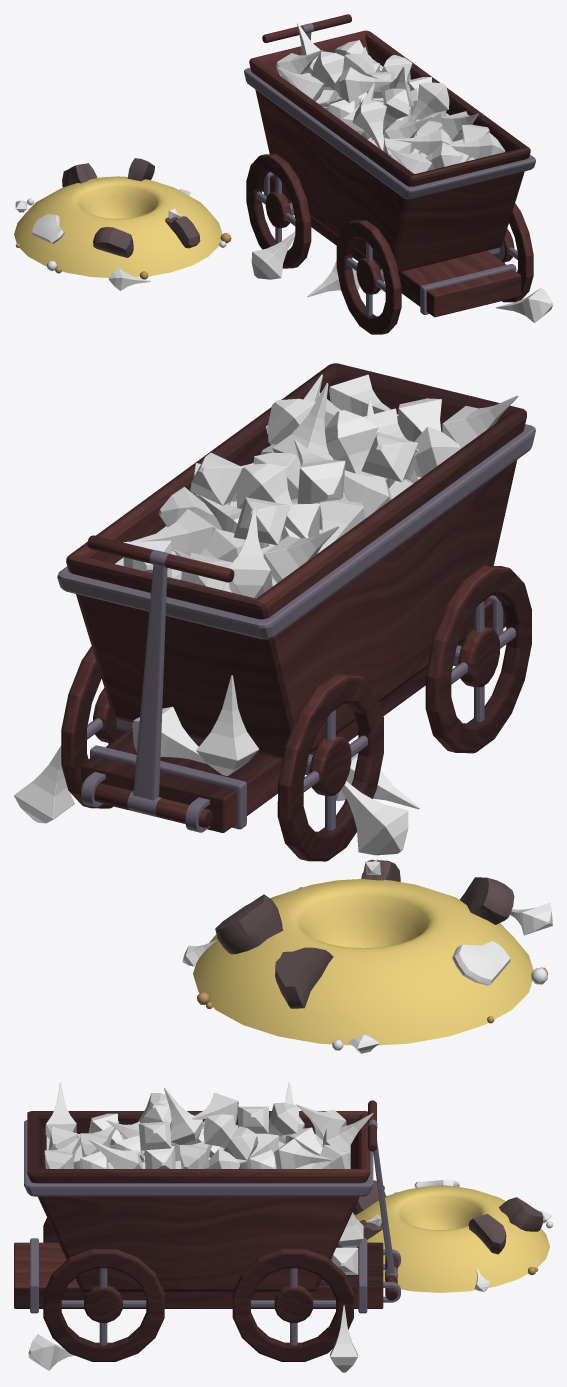
File: EdifRecoleccion.fbx
3 renders of one model, top to bottom at view 1: azimuth 30°, elevation 25°; view 2: azimuth 150°, elevation 25°; view 3: azimuth 270°, elevation 25°, orthographic. The views are drawn at different scales.
Parts seen in each view (by area): view 1: Vagoneta, Hoyo, RuedaAtrasDerecha, Base, RuedaAtrasIzquierda, Gema.036, Gema.031, Gema.017, Gema.040, RocaHoyo.009, Gema.043, Gema.028 (+22 smaller); view 2: Vagoneta, Hoyo, RuedaAtrasDerecha, Base, Barra, RuedaAtrasIzquierda, Gema.036, Gema.037, RocaHoyo.005, RocaHoyo.007, Gema.042, Gema.033 (+28 smaller); view 3: Vagoneta, RuedaAtrasIzquierda, Hoyo, Base, Gema.030, RocaHoyo.007, RocaHoyo.005, Gema.003, Gema.042, Gema.028, Gema.029, Gema.043 (+28 smaller).
Part boxes in pixels (bbox=[...]): Vagoneta: bbox=[244, 30, 535, 271]; Hoyo: bbox=[14, 176, 222, 277]; RuedaAtrasDerecha: bbox=[246, 154, 401, 334]; Base: bbox=[262, 172, 521, 317]; RuedaAtrasIzquierda: bbox=[494, 203, 533, 302]; Gema.036: bbox=[251, 232, 295, 279]; Gema.031: bbox=[408, 82, 449, 121]; Gema.017: bbox=[352, 99, 386, 150]; Gema.040: bbox=[334, 67, 392, 103]; RocaHoyo.009: bbox=[93, 227, 133, 257]; Gema.043: bbox=[496, 287, 552, 322]; Gema.028: bbox=[311, 51, 344, 96]; Vagoneta: bbox=[57, 363, 535, 759]; Hoyo: bbox=[193, 879, 533, 1045]; RuedaAtrasDerecha: bbox=[277, 565, 531, 861]; Base: bbox=[81, 595, 506, 832]; Barra: bbox=[133, 564, 167, 800]; RuedaAtrasIzquierda: bbox=[61, 646, 126, 808]; Gema.036: bbox=[341, 781, 408, 855]; Gema.037: bbox=[196, 675, 259, 775]; RocaHoyo.005: bbox=[215, 894, 283, 954]; RocaHoyo.007: bbox=[275, 947, 333, 1008]; Gema.042: bbox=[14, 745, 74, 823]; Gema.033: bbox=[325, 410, 378, 475]; Vagoneta: bbox=[24, 1111, 373, 1291]; RuedaAtrasIzquierda: bbox=[43, 1249, 353, 1361]; Hoyo: bbox=[355, 1185, 549, 1292]; Base: bbox=[14, 1238, 383, 1313]; Gema.030: bbox=[164, 1087, 202, 1144]; RocaHoyo.007: bbox=[499, 1197, 543, 1231]; RocaHoyo.005: bbox=[468, 1214, 506, 1254]; Gema.003: bbox=[273, 1138, 331, 1168]; Gema.042: bbox=[330, 1305, 357, 1372]; Gema.028: bbox=[268, 1102, 299, 1136]; Gema.029: bbox=[203, 1114, 248, 1160]; Gema.043: bbox=[28, 1334, 74, 1370].
Size of the model in its own units: 1.87 by 2.41 by 1.18.
7 materials, 1 textured.
